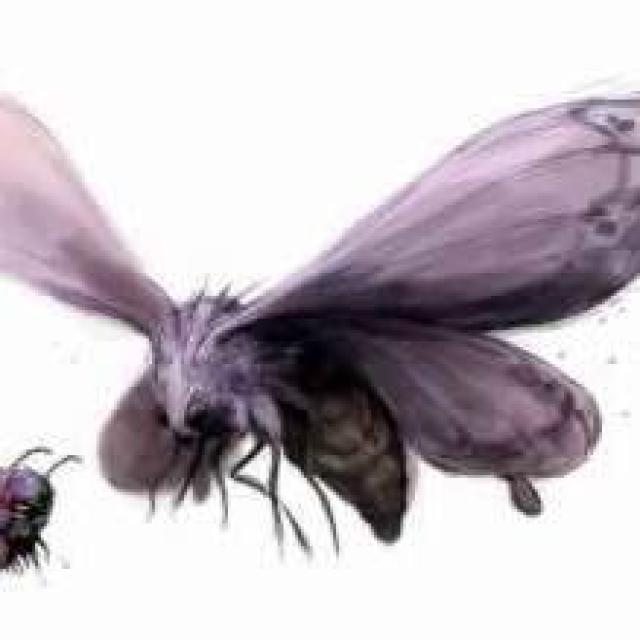Venomoth: (76, 190, 604, 503)
